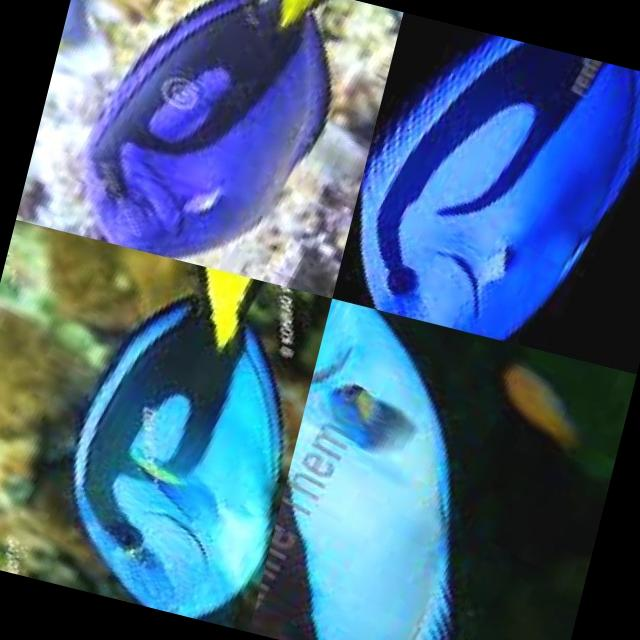BlueTang: (40, 244, 332, 632), (332, 11, 640, 359), (248, 297, 514, 640), (63, 0, 356, 286)
